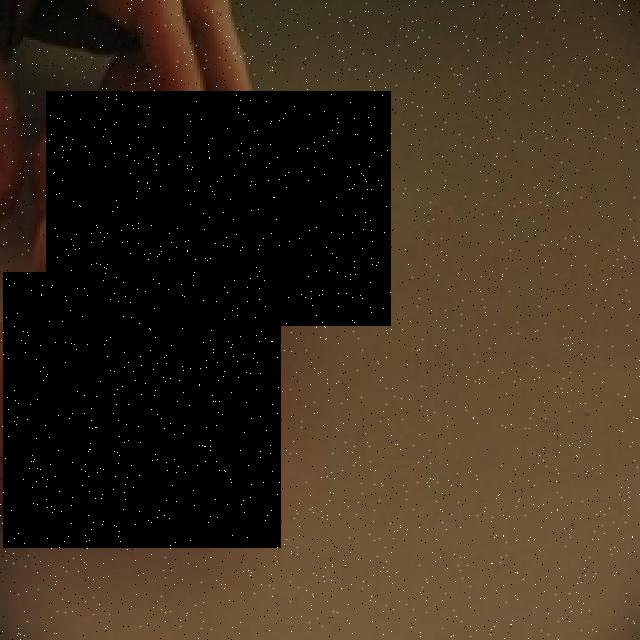Potato: (46, 92, 392, 327), (4, 273, 282, 549)
